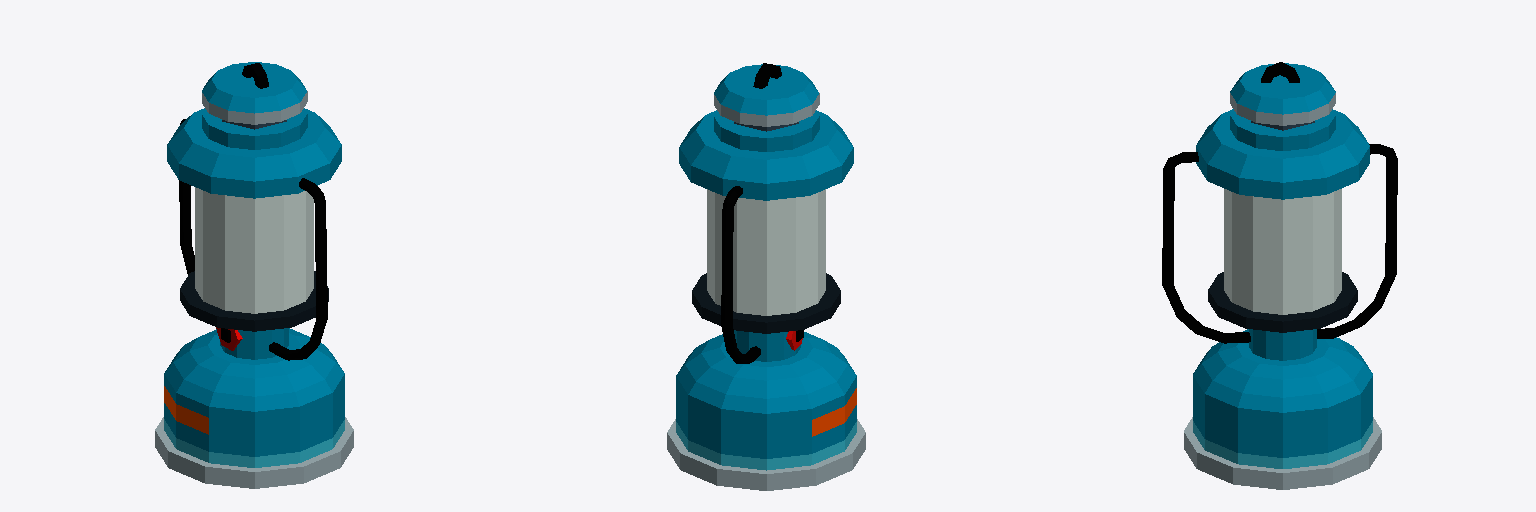
3 views of the same model, side by side, from view 1: azimuth 30°, elevation 25°; view 2: azimuth 150°, elevation 25°; view 3: azimuth 270°, elevation 25° (orthographic).
Visible parts, largest first — view 1: group[number redacted]; view 2: group[number redacted]; view 3: group[number redacted].
Boxes of the visible parts, x1,y1,x2,y2 form: group[number redacted]: [155, 62, 353, 488]; group[number redacted]: [667, 63, 865, 490]; group[number redacted]: [1162, 62, 1397, 489].
Size of the model in its own units: 0.319 by 0.6804 by 0.3781.